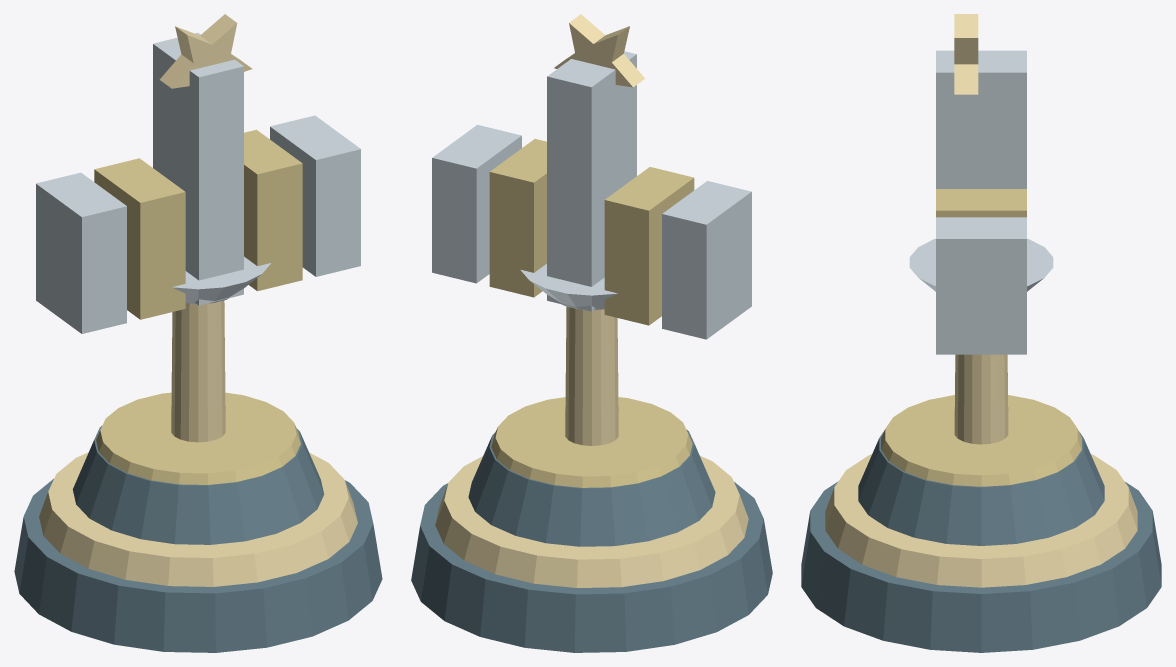
The model's file is mayors-cup.glb.
3 views of the same model, side by side, from view 1: azimuth 30°, elevation 25°; view 2: azimuth 150°, elevation 25°; view 3: azimuth 270°, elevation 25° (orthographic).
Bounding box in the file's own units: 1.2 × 2 × 1.19.
